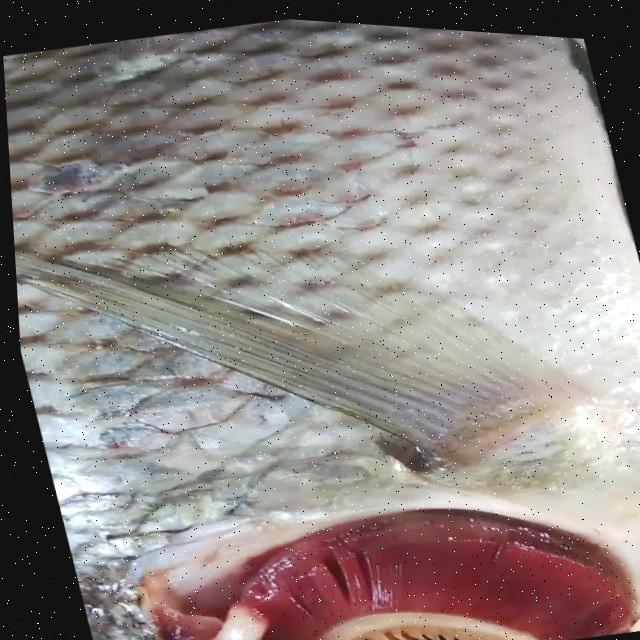Fresh: (138, 436, 640, 640)
